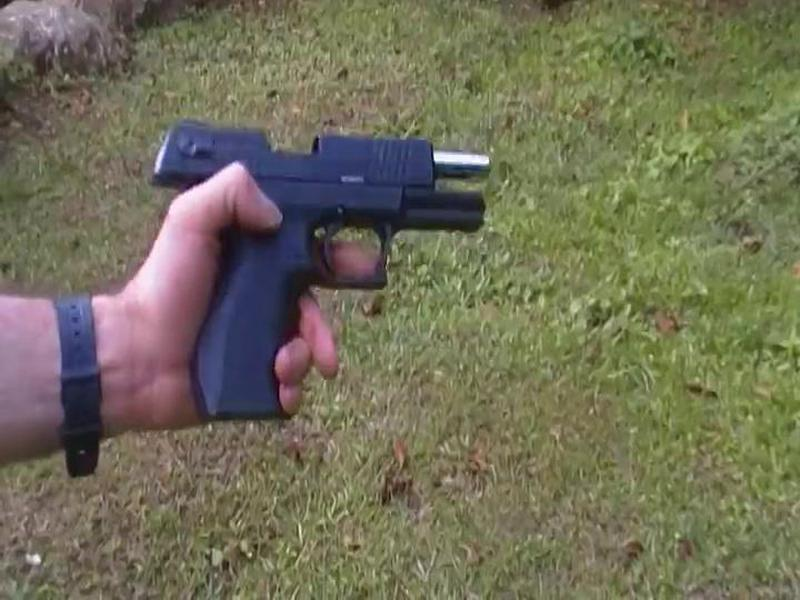Pistola: (156, 122, 499, 424)
